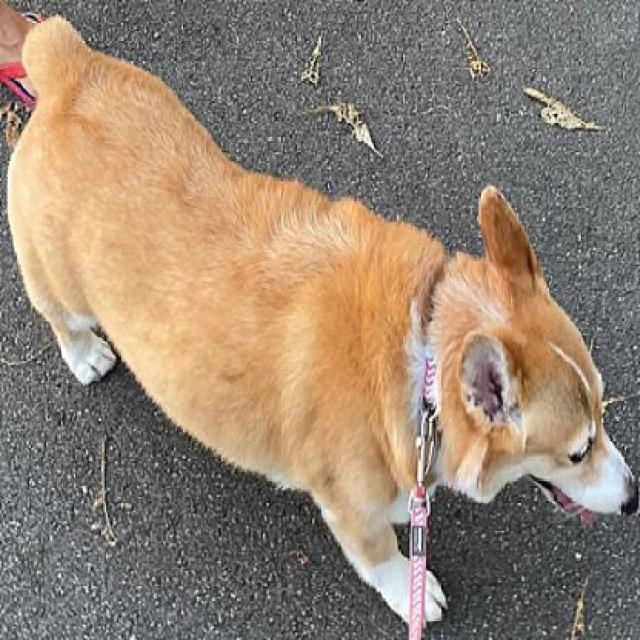Dog: (8, 14, 634, 632)
